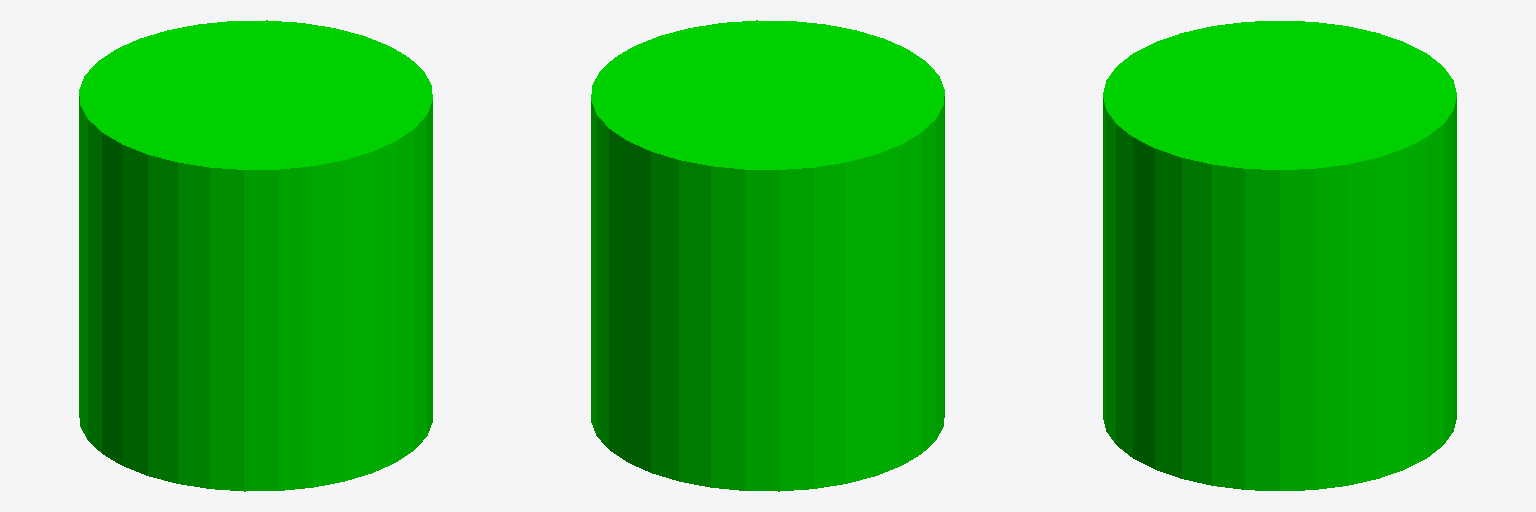
robot.urdf — simplegoal:
<?xml version="1.0"?>
<robot name="simplegoal">
    <!-- Colors -->
    <material name="green">
        <color rgba="0 0.925 0 1"/>
    </material>

    <!-- Goal -->
    <link name="base_link">
        <visual>
            <geometry>
                <cylinder radius="0.5" length="1"/>
                <origin rpy="0 0 0" xyz="0 0 0.5"/>
            </geometry>
            <material name="green"/>
        </visual>
        <collision>
             <geometry>
                <cylinder radius="0.5" length="1"/>
                <origin rpy="0 0 0" xyz="0 0 0.5"/>
            </geometry>
        </collision>
        <inertial>
            <mass value="0"/>
            <inertia ixx="0" ixy="0" ixz="0" iyy="0" iyz="0" izz="0"/>
        </inertial>
    </link>
</robot>

--- Facts derived from the render (not from the file) ---
The picture shows the robot from 3 angles, left to right: view 1: azimuth 30°, elevation 25°; view 2: azimuth 150°, elevation 25°; view 3: azimuth 270°, elevation 25°; orthographic projection.
Model simplegoal with 1 links and 0 joints (none), rooted at base_link, posed every joint at zero.
Links seen in each view (by area): view 1: base_link; view 2: base_link; view 3: base_link.
Boxes of the visible links, x1=… form: base_link: x1=79, y1=20, x2=432, y2=491; base_link: x1=591, y1=20, x2=944, y2=491; base_link: x1=1103, y1=21, x2=1456, y2=490.
Size in the robot's own frame: 1 by 1 by 1 metres.
Geometry: primitives only (box / cylinder / sphere), no mesh files.